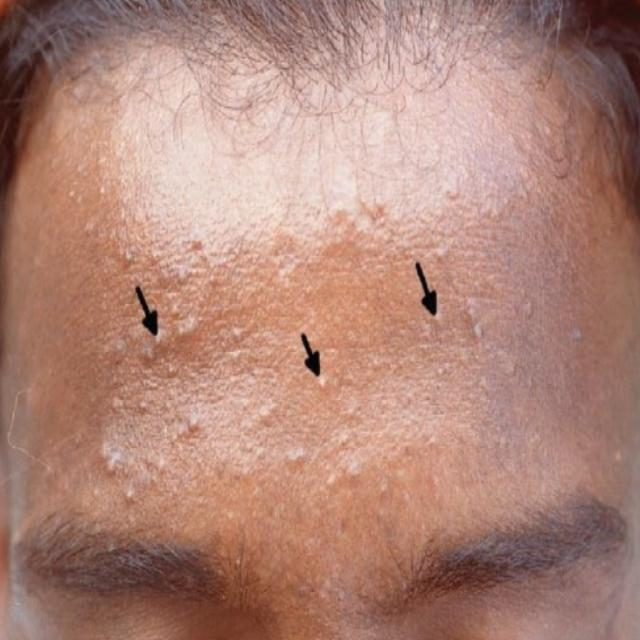fungal: (65, 145, 528, 512)
